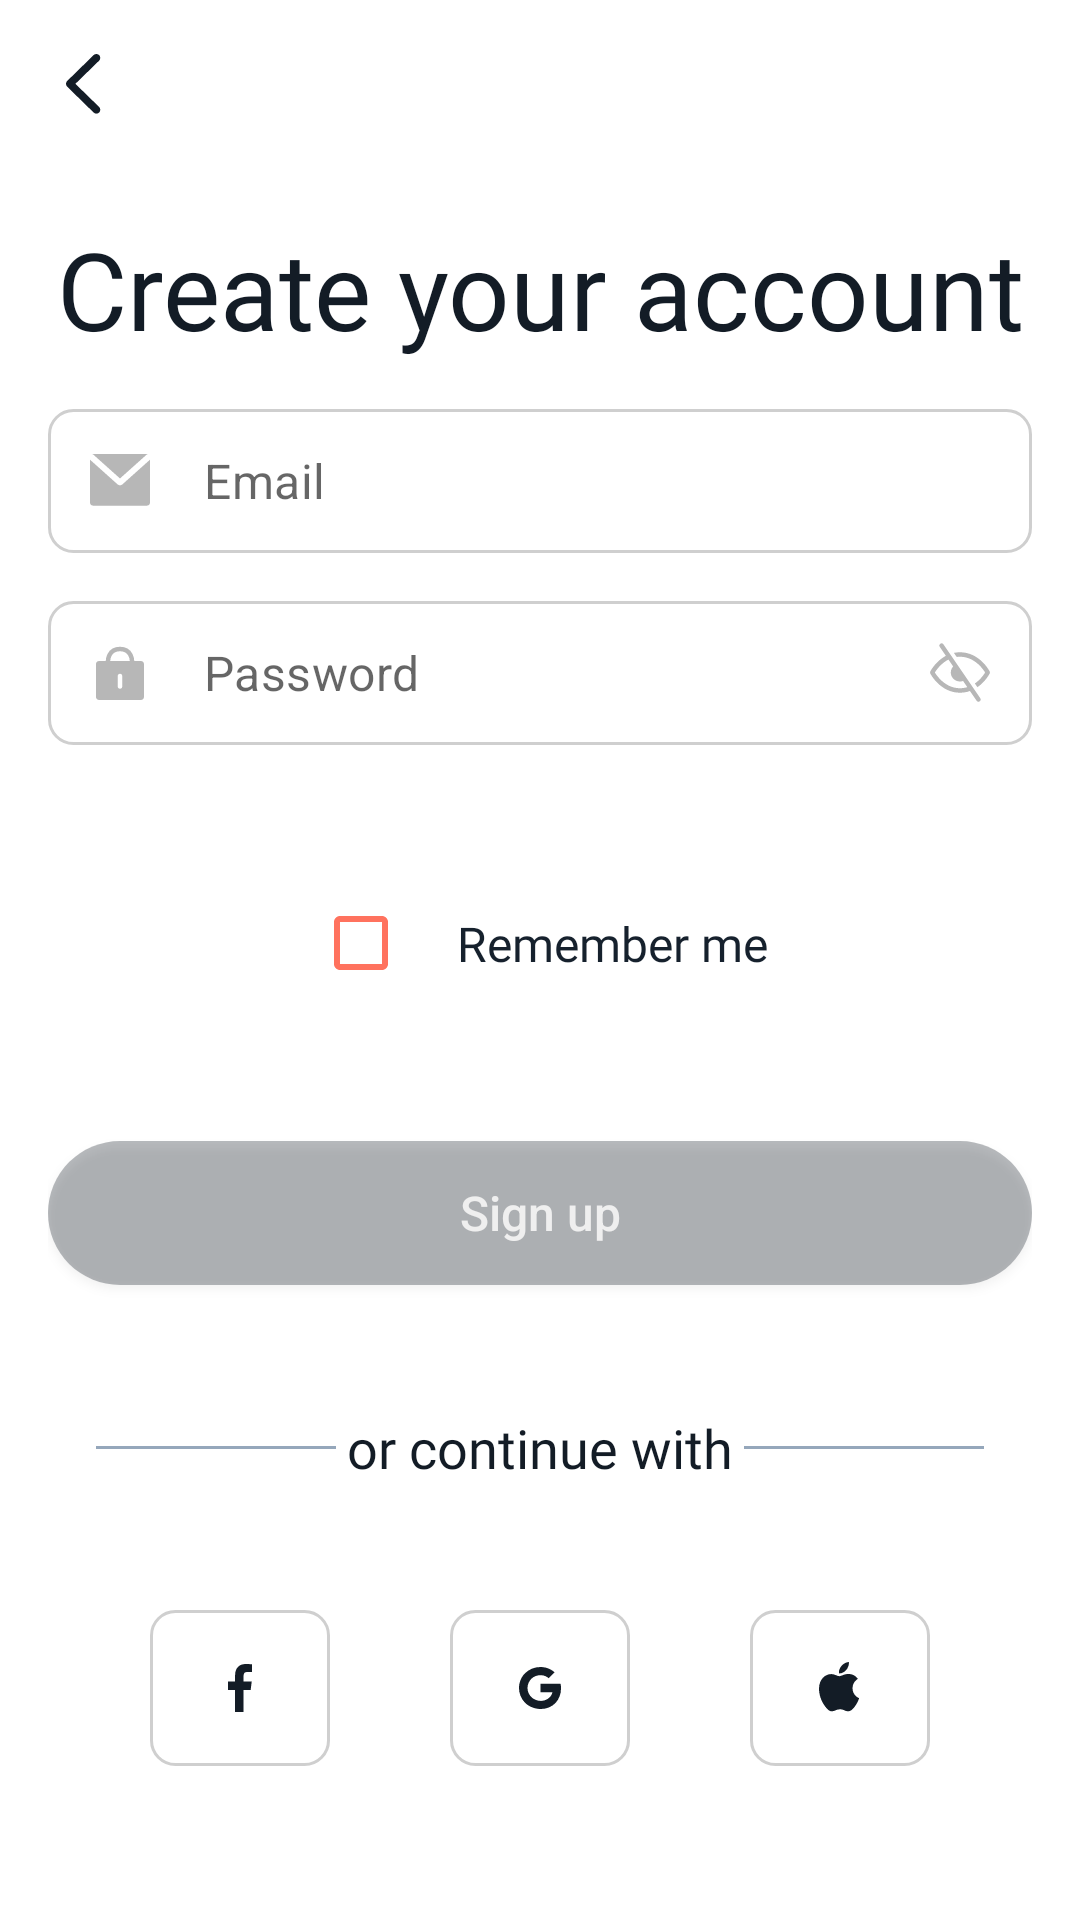

Icon click points for this 1080x1920 phone screenshot, format point (x, y):
back: point (83, 84)
